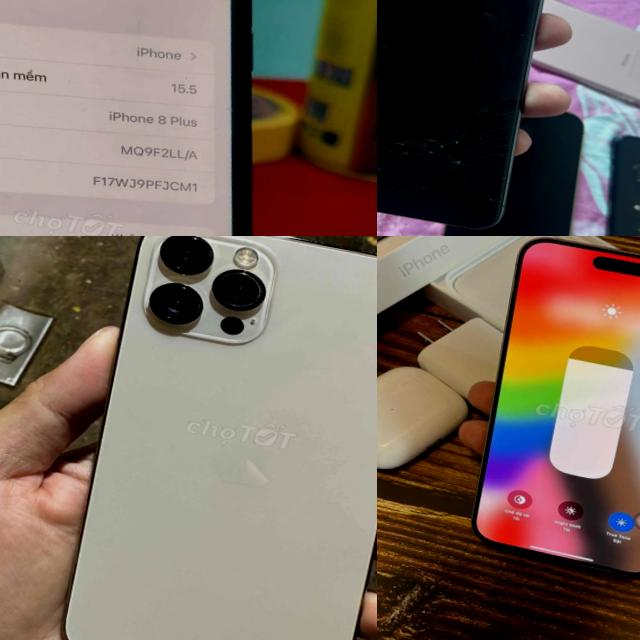gen_12_13: (36, 236, 377, 640)
gen_15: (460, 236, 640, 586)
gen_7_8: (0, 0, 352, 236)
gen_x_xs: (377, 0, 559, 235)
